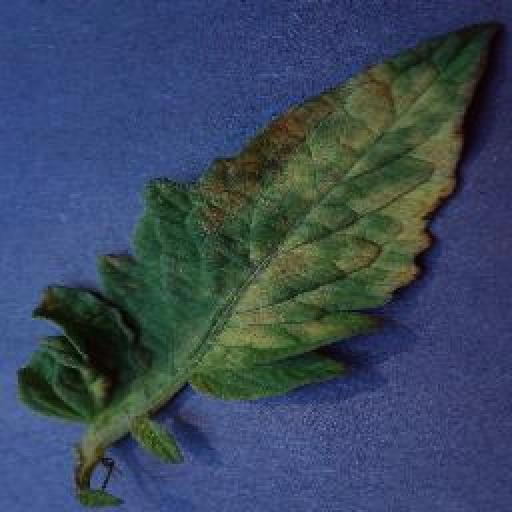disease_tomato: (18, 21, 502, 415)
